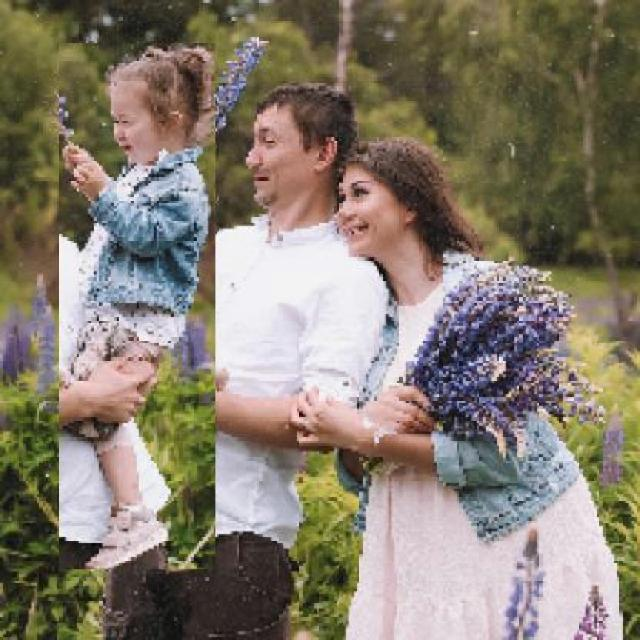child: (58, 43, 215, 571)
